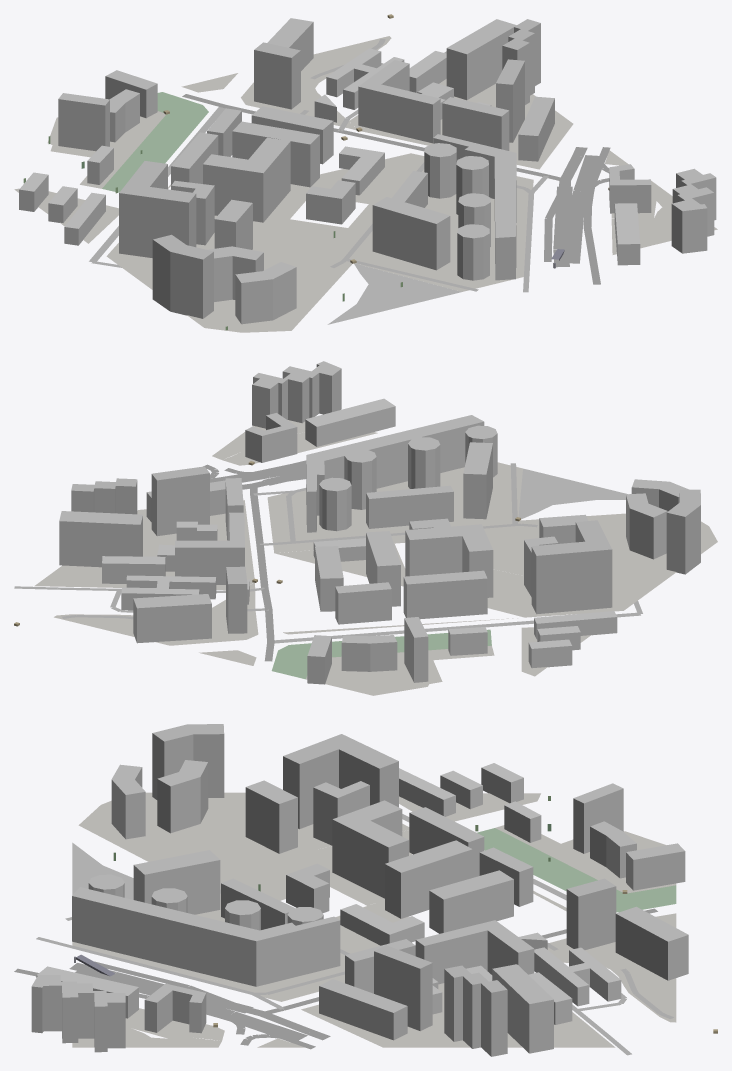
3 views of the same model, one above another, from view 1: azimuth 30°, elevation 25°; view 2: azimuth 150°, elevation 25°; view 3: azimuth 270°, elevation 25° (orthographic). The views are drawn at different scales.
Bounding box in the file's own units: 537 × 61.31 × 583.
